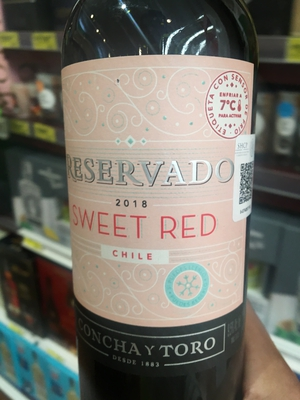reservado sweet red: (61, 2, 267, 400)
